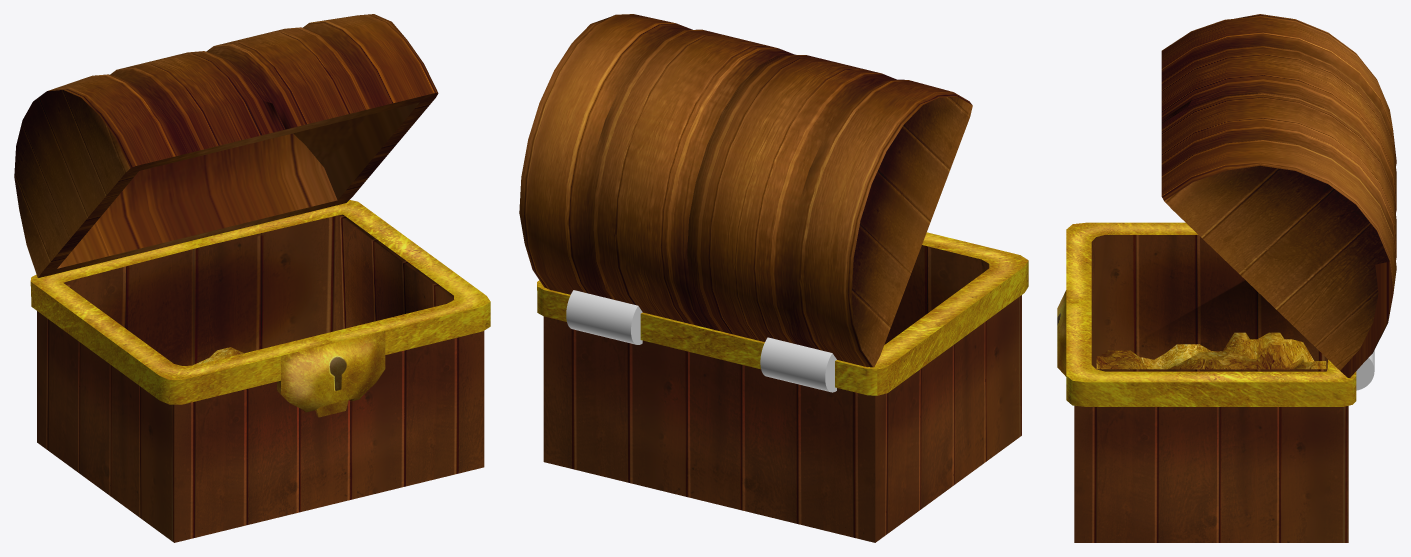
The model's file is Treasure Chest.fbx.
The picture shows the model from 3 angles, left to right: view 1: azimuth 30°, elevation 25°; view 2: azimuth 150°, elevation 25°; view 3: azimuth 270°, elevation 25°; orthographic projection. The views are drawn at different scales.
Visible parts, largest first — view 1: Chest, Top; view 2: Top, Chest, Scharnieren; view 3: Chest, Top, Inhoud, Scharnieren.
Part boxes in pixels (x1=…): Chest: x1=30, y1=200, x2=490, y2=542; Top: x1=14, y1=14, x2=438, y2=277; Top: x1=519, y1=14, x2=972, y2=367; Chest: x1=537, y1=232, x2=1028, y2=542; Scharnieren: x1=566, y1=290, x2=836, y2=392; Chest: x1=1057, y1=222, x2=1356, y2=542; Top: x1=1161, y1=14, x2=1396, y2=377; Inhoud: x1=1096, y1=332, x2=1326, y2=369; Scharnieren: x1=1356, y1=350, x2=1374, y2=390.
Size of the model in its own units: 346 by 384 by 311.
4 materials, 3 textured.
